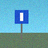sign: (15, 10, 28, 39)
